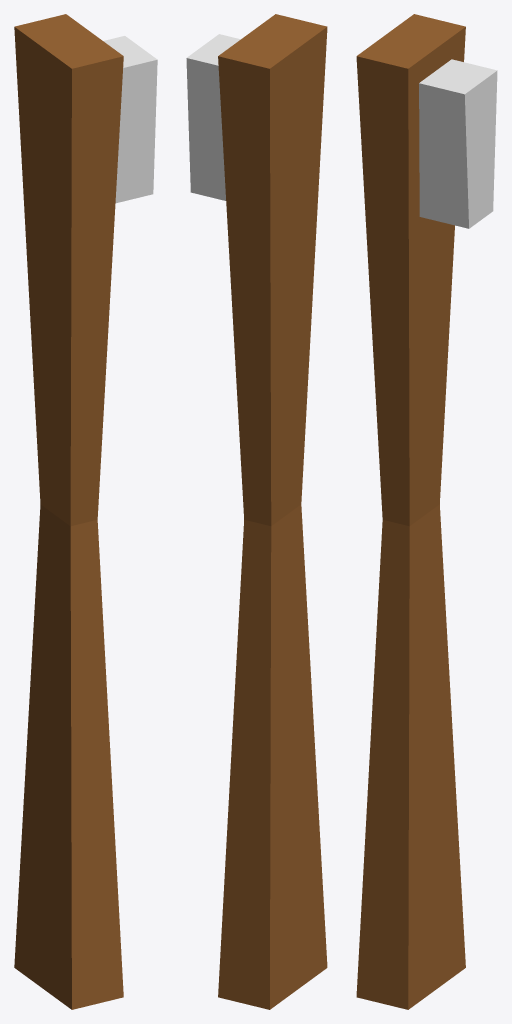
The model's file is ToothBrush.glb.
3 renders of one model, left to right at view 1: azimuth 30°, elevation 25°; view 2: azimuth 150°, elevation 25°; view 3: azimuth 330°, elevation 25°, orthographic.
Visible parts, largest first — view 1: Cube, Cube.001; view 2: Cube, Cube.001; view 3: Cube, Cube.001.
Part boxes in pixels (box(x1,y1,x2,y2)): Cube: box(14, 14, 123, 1009); Cube.001: box(103, 36, 157, 203); Cube: box(218, 14, 327, 1009); Cube.001: box(186, 34, 240, 200); Cube: box(356, 14, 465, 1009); Cube.001: box(419, 59, 497, 228).
Bounding box in the file's own units: 1.79 × 16.59 × 1.84.
